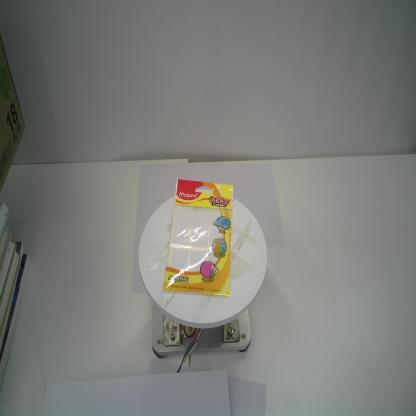Stationery: (162, 178, 234, 297)
